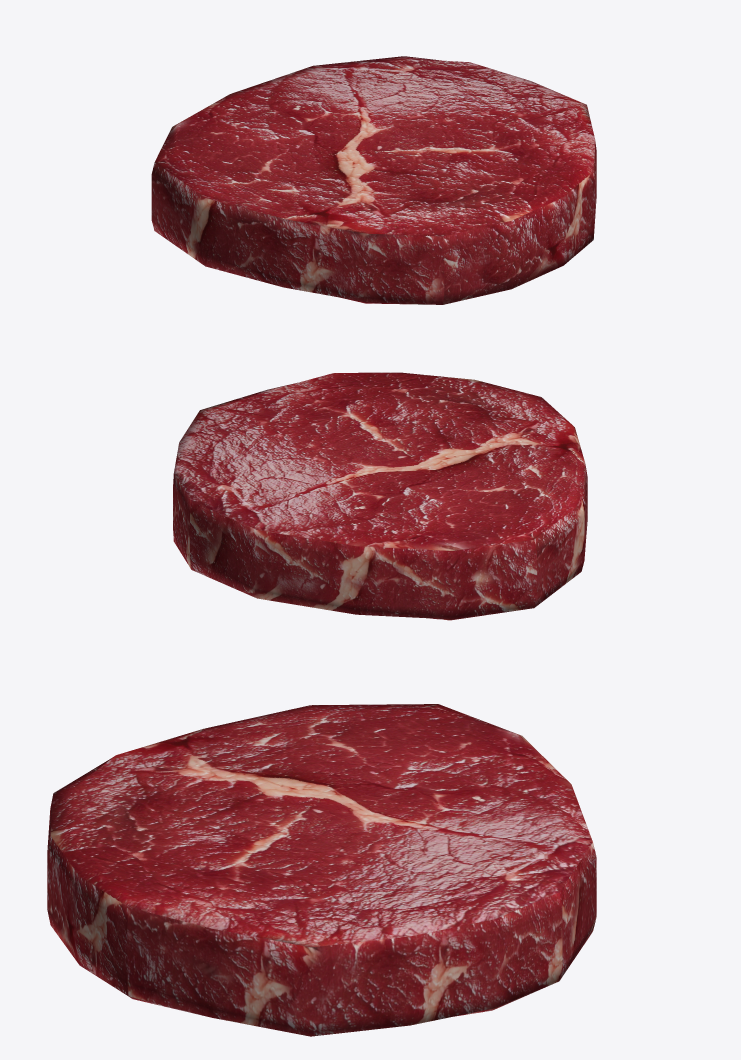
The model's file is Daging.fbx.
3 renders of one model, top to bottom at view 1: azimuth 30°, elevation 25°; view 2: azimuth 150°, elevation 25°; view 3: azimuth 270°, elevation 25°, orthographic. The views are drawn at different scales.
Visible parts, largest first — view 1: Daging; view 2: Daging; view 3: Daging.
Part boxes in pixels (bbox=[...]): Daging: bbox=[151, 56, 596, 304]; Daging: bbox=[173, 372, 587, 620]; Daging: bbox=[47, 704, 596, 1036].
Bounding box in the file's own units: 44.8 × 8.3 × 48.41.
Materials: 2 (2 with a texture image).
